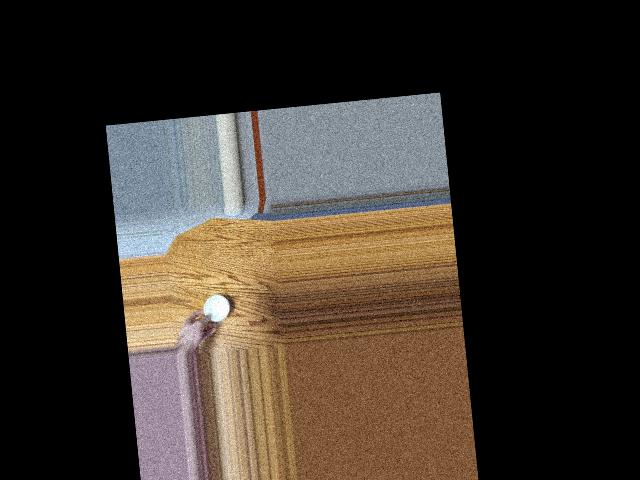cotage: (200, 293, 233, 322)
